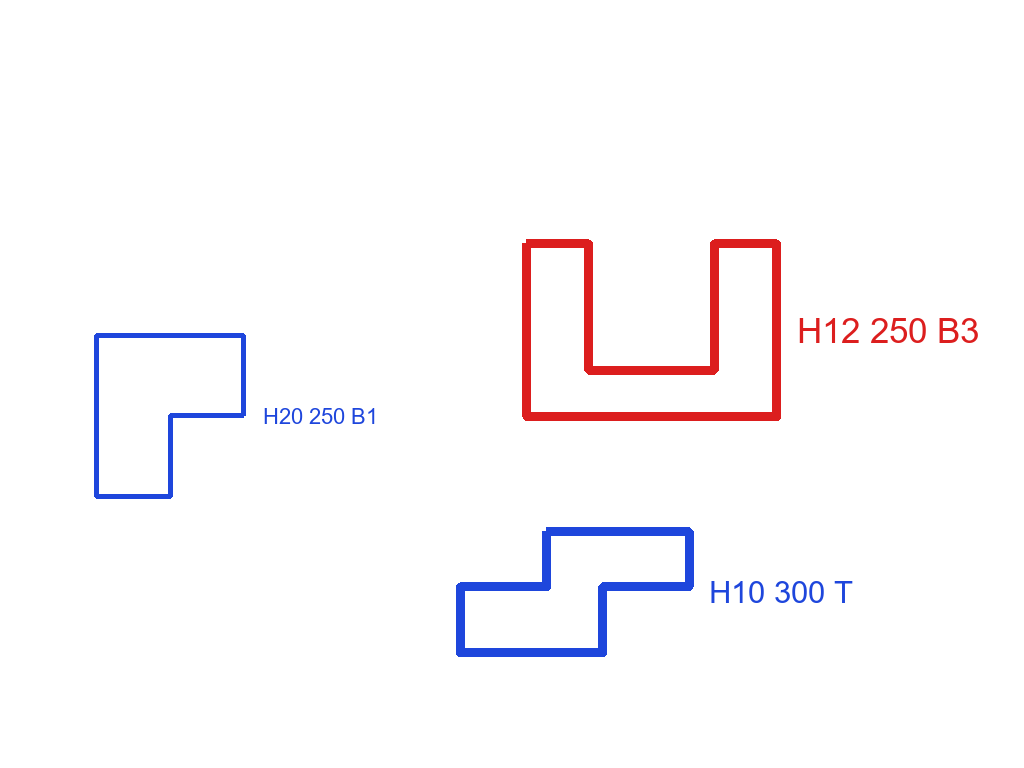shape: (520, 237, 783, 423), (454, 525, 696, 659), (92, 331, 248, 501)
text: (795, 316, 981, 345), (707, 579, 855, 605), (261, 406, 380, 426)
